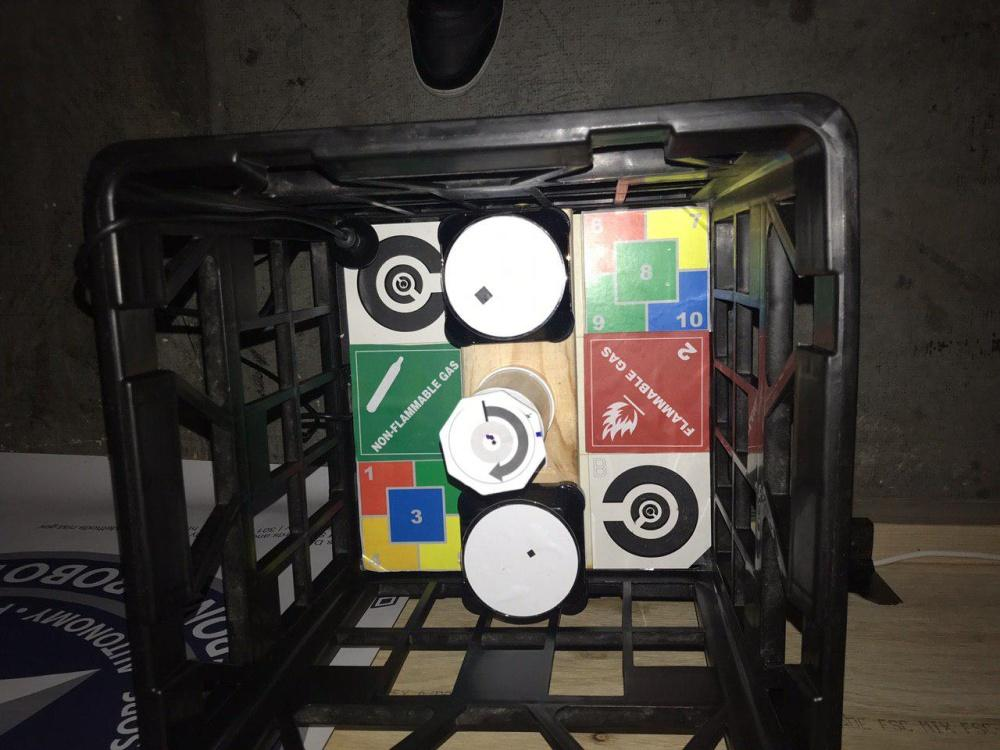flammable: (578, 330, 710, 453)
non-flammable-gas: (349, 344, 466, 460)
